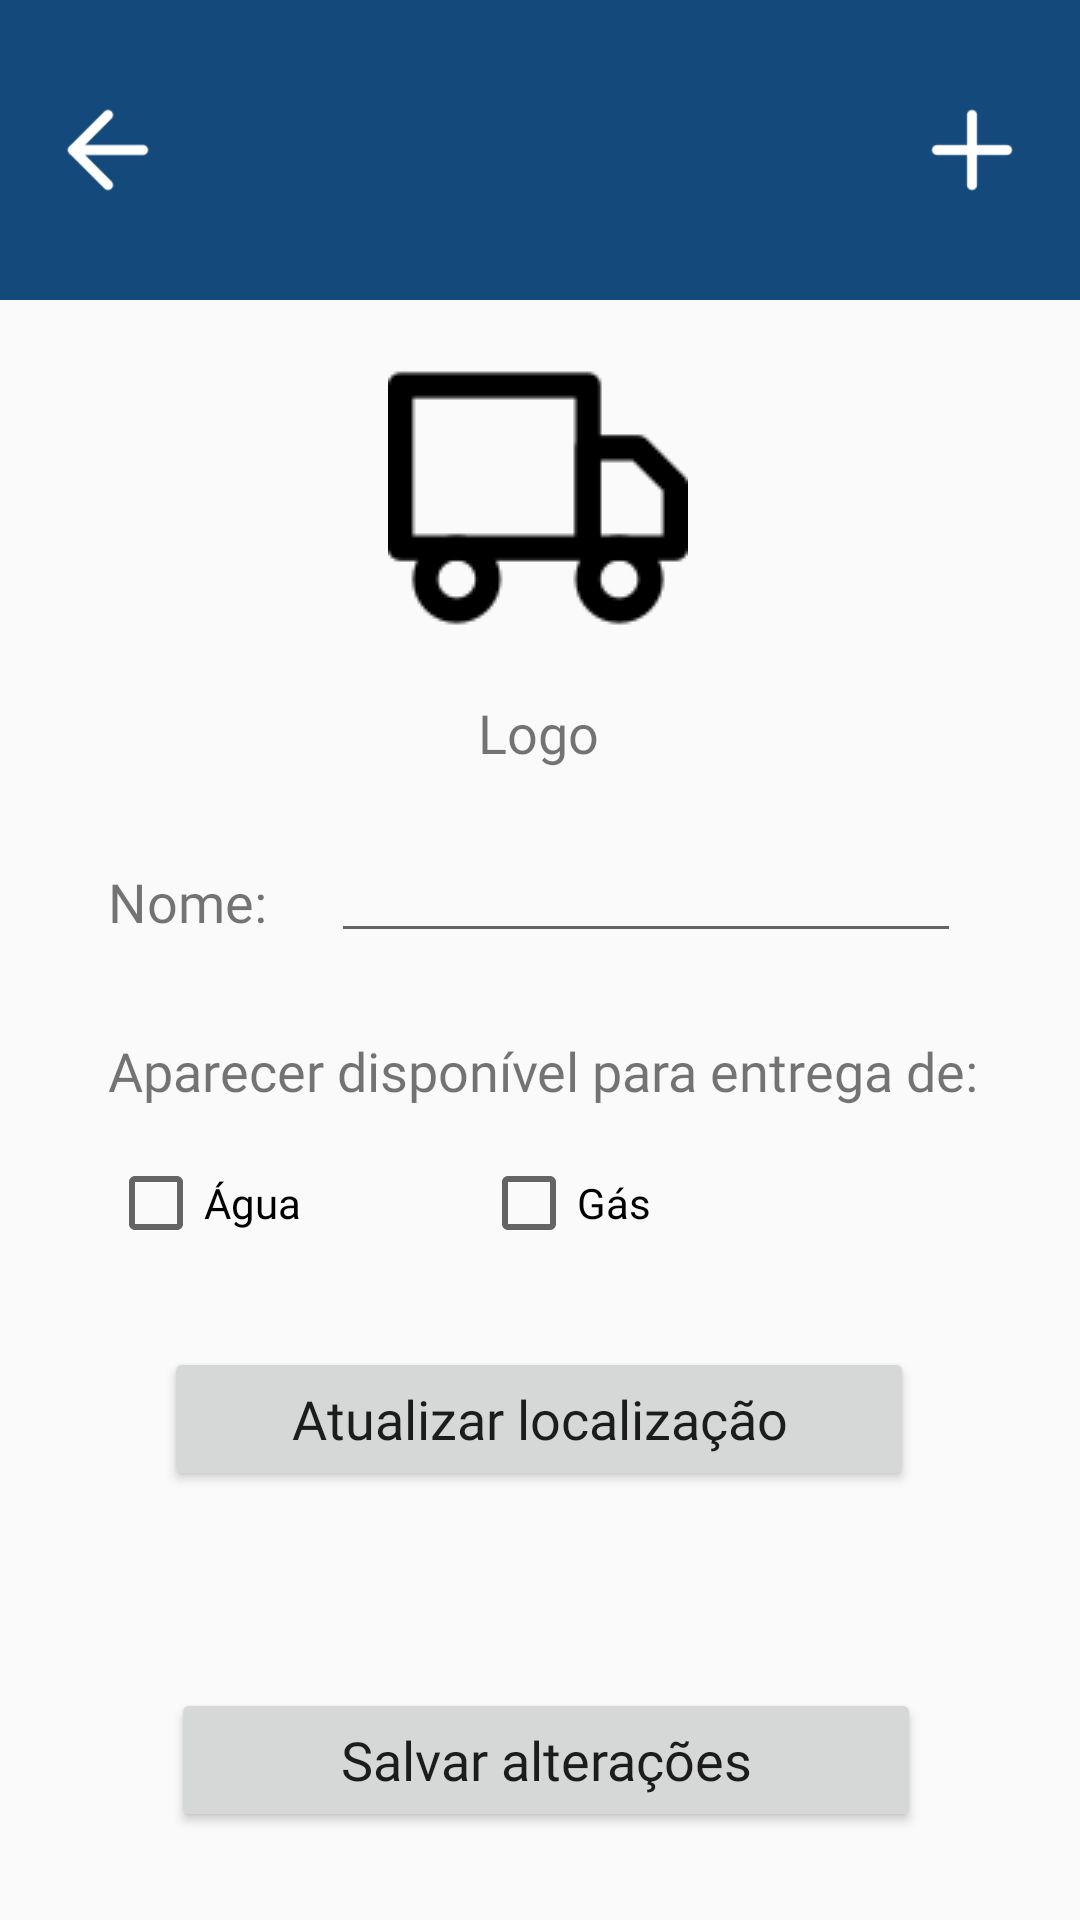

Icon click points for this 1080×1920 phone screenshot, format [x,y]:
plus: [972,150]
truck: [538,498]
Voltar: [108,150]
